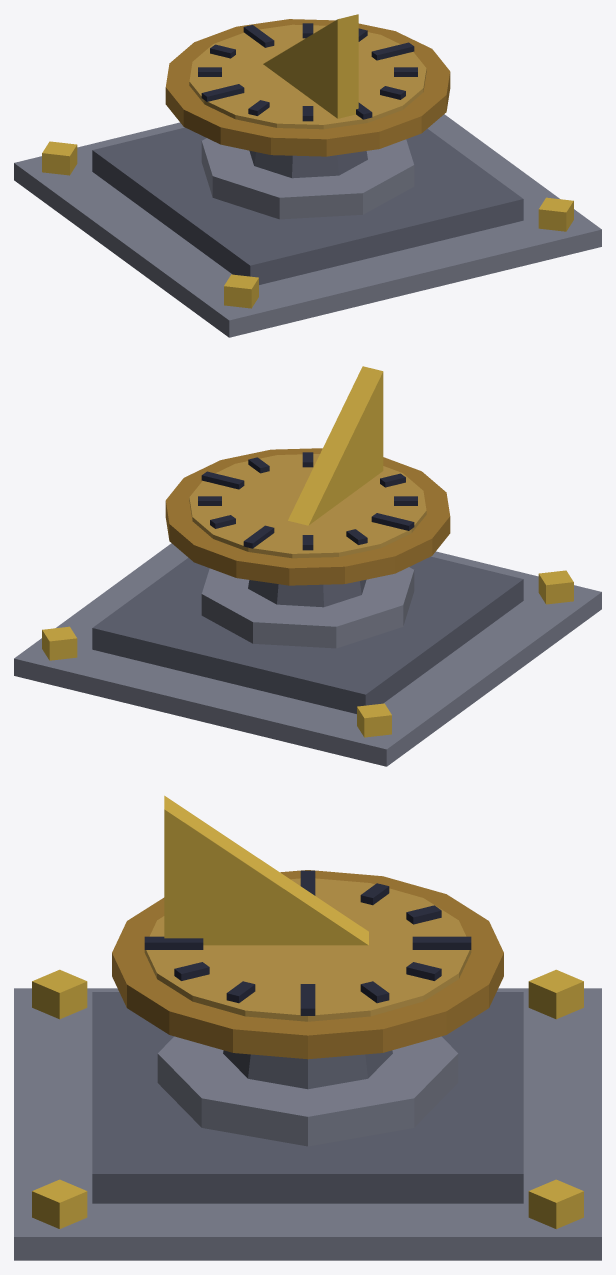
File: Decor_Observatory_Sundial.fbx
3 views of the same model, one above another, from view 1: azimuth 30°, elevation 25°; view 2: azimuth 150°, elevation 25°; view 3: azimuth 270°, elevation 25° (orthographic). The views are drawn at different scales.
Parts seen in each view (by area): view 1: Sundial_Body; view 2: Sundial_Body; view 3: Sundial_Body.
Part boxes in pixels (box(x1,y1,x2,y2)): Sundial_Body: box(14, 14, 601, 337); Sundial_Body: box(14, 366, 601, 766); Sundial_Body: box(14, 795, 601, 1260).
Bounding box in the file's own units: 9 × 5.5 × 9.
